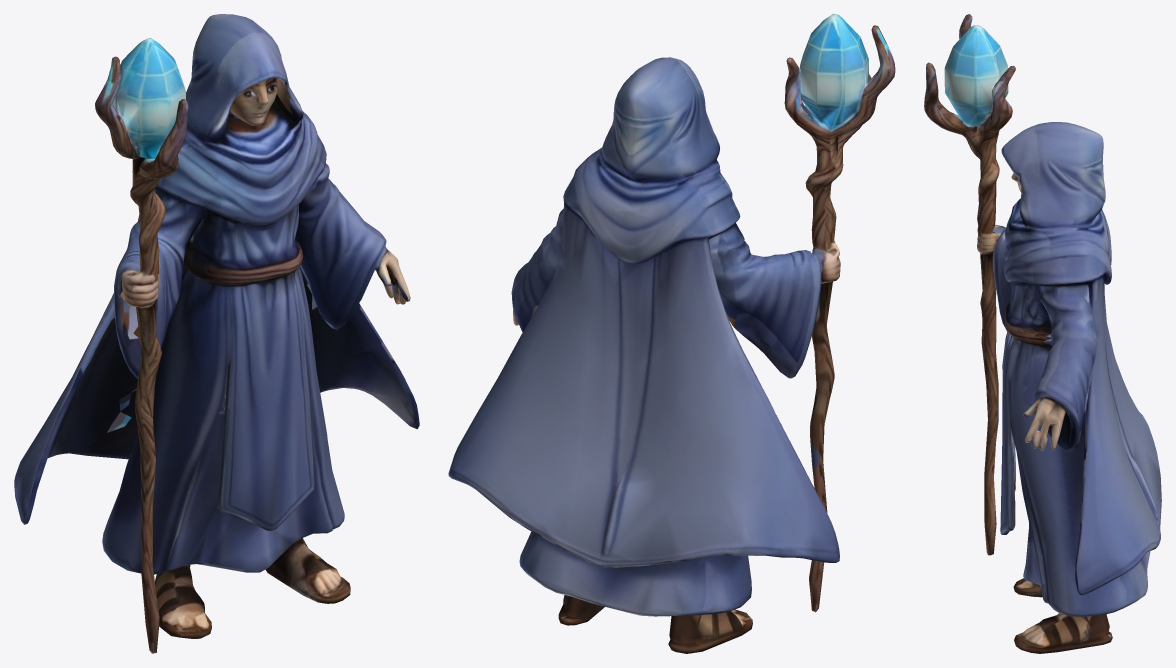
The model's file is u_mantis.glb.
3 renders of one model, left to right at view 1: azimuth 30°, elevation 25°; view 2: azimuth 150°, elevation 25°; view 3: azimuth 270°, elevation 25°, orthographic. The views are drawn at different scales.
Parts seen in each view (by area): view 1: Wizard; view 2: Wizard; view 3: Wizard.
Boxes of the visible parts, box(x1,y1,x2,y2) form: Wizard: box(14, 14, 419, 653); Wizard: box(448, 14, 895, 653); Wizard: box(924, 14, 1161, 653).
Bounding box in the file's own units: 1.08 × 1.65 × 0.6661.
1 material, 1 textured.
